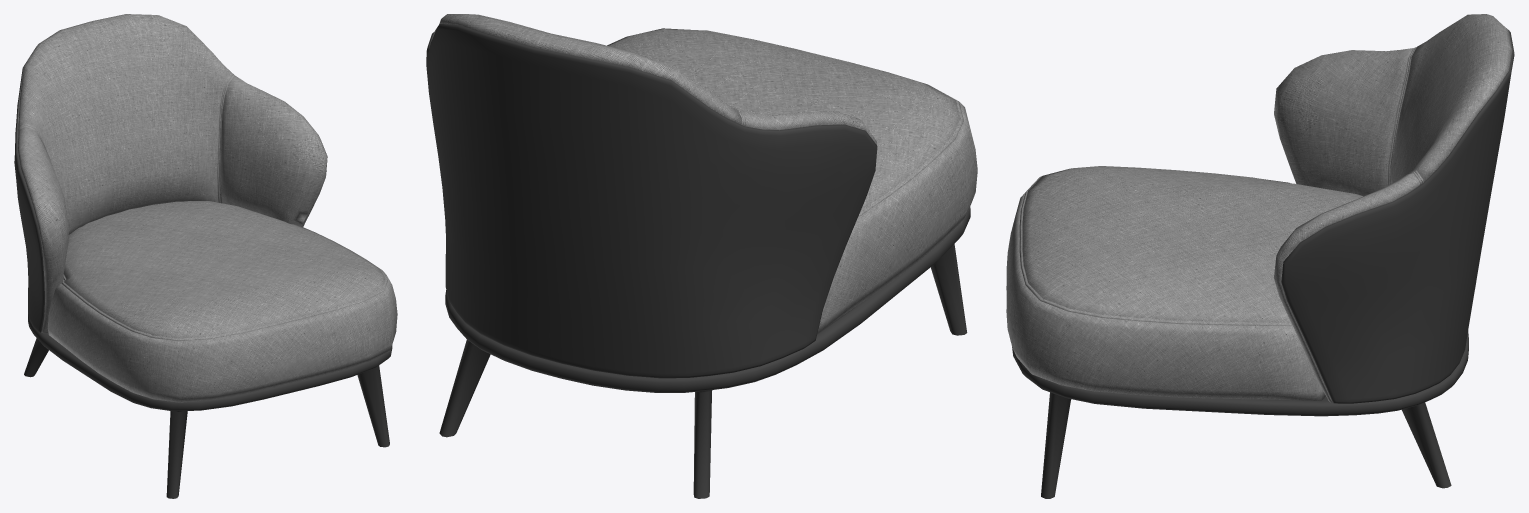
Rendered from minotti-armchair.glb.
3 views of the same model, side by side, from view 1: azimuth 30°, elevation 25°; view 2: azimuth 150°, elevation 25°; view 3: azimuth 270°, elevation 25° (orthographic). The views are drawn at different scales.
Parts seen in each view (by area): view 1: Box; view 2: Box; view 3: Box.
Boxes of the visible parts, bbox=[...] form: Box: bbox=[14, 14, 397, 498]; Box: bbox=[426, 14, 977, 498]; Box: bbox=[1006, 14, 1514, 498].
Bounding box in the file's own units: 0.7241 × 0.7486 × 0.8878.
Materials: 2 (1 with a texture image).
